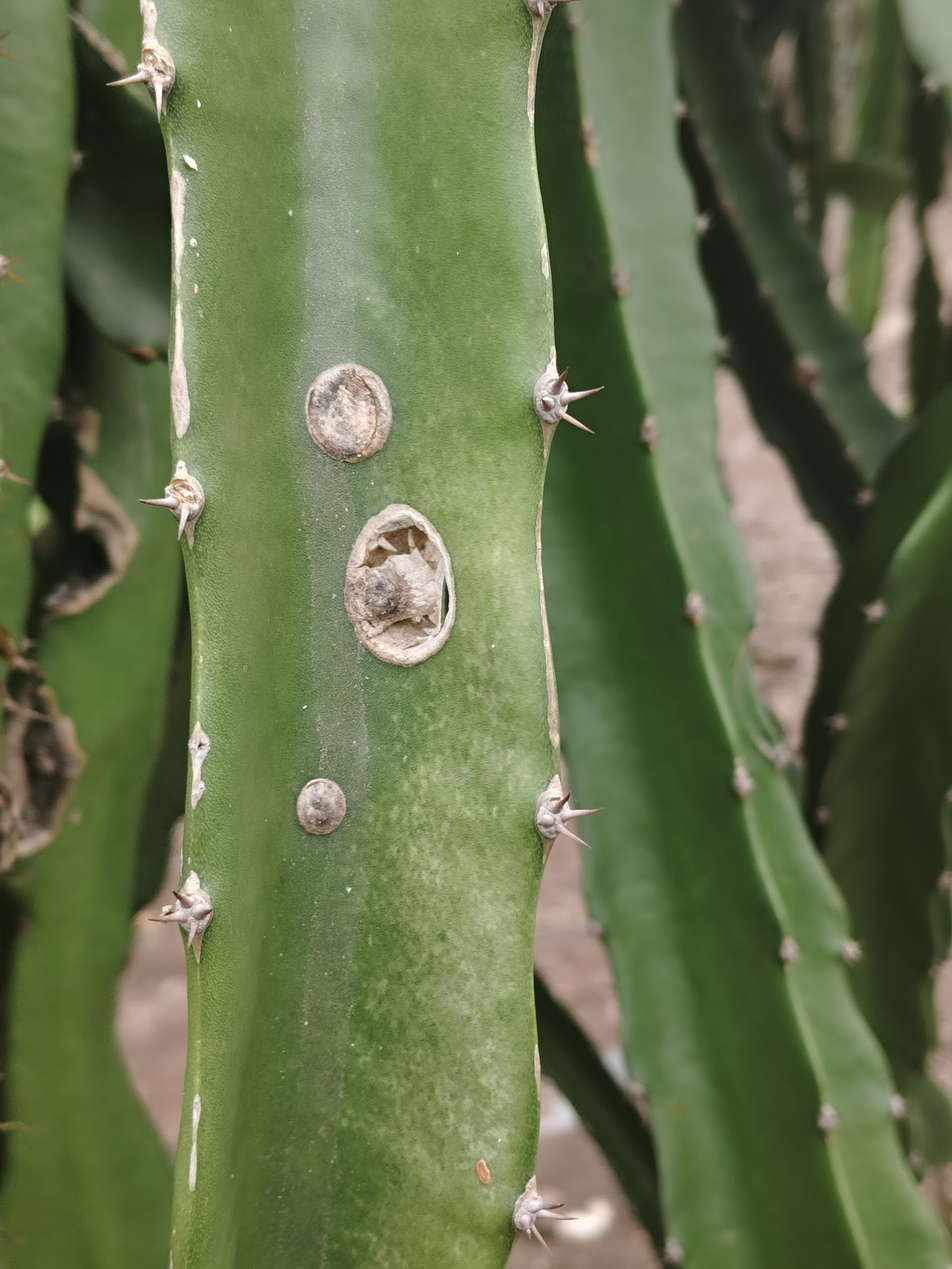stemcanker: (712, 367, 846, 773), (18, 395, 143, 630), (341, 500, 459, 673), (0, 662, 89, 884), (304, 359, 395, 465), (293, 775, 351, 838)
